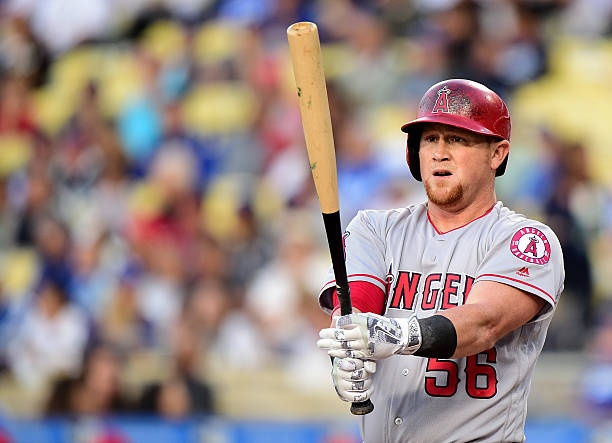bita: (286, 20, 369, 415)
